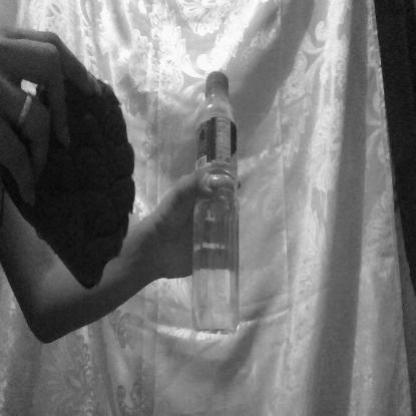Plastic Bottle: (194, 69, 241, 337)
